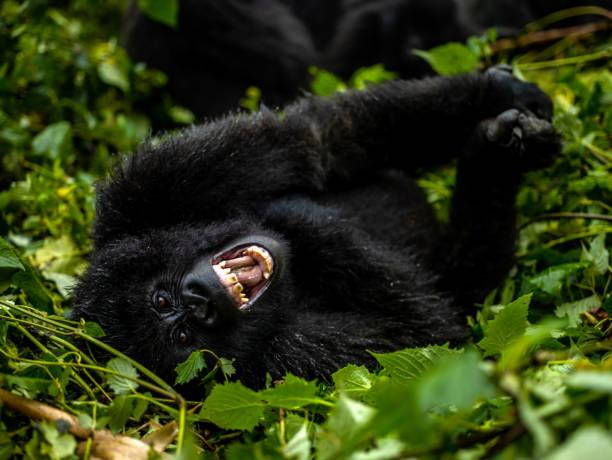goriile_montagne: (88, 74, 550, 377)
